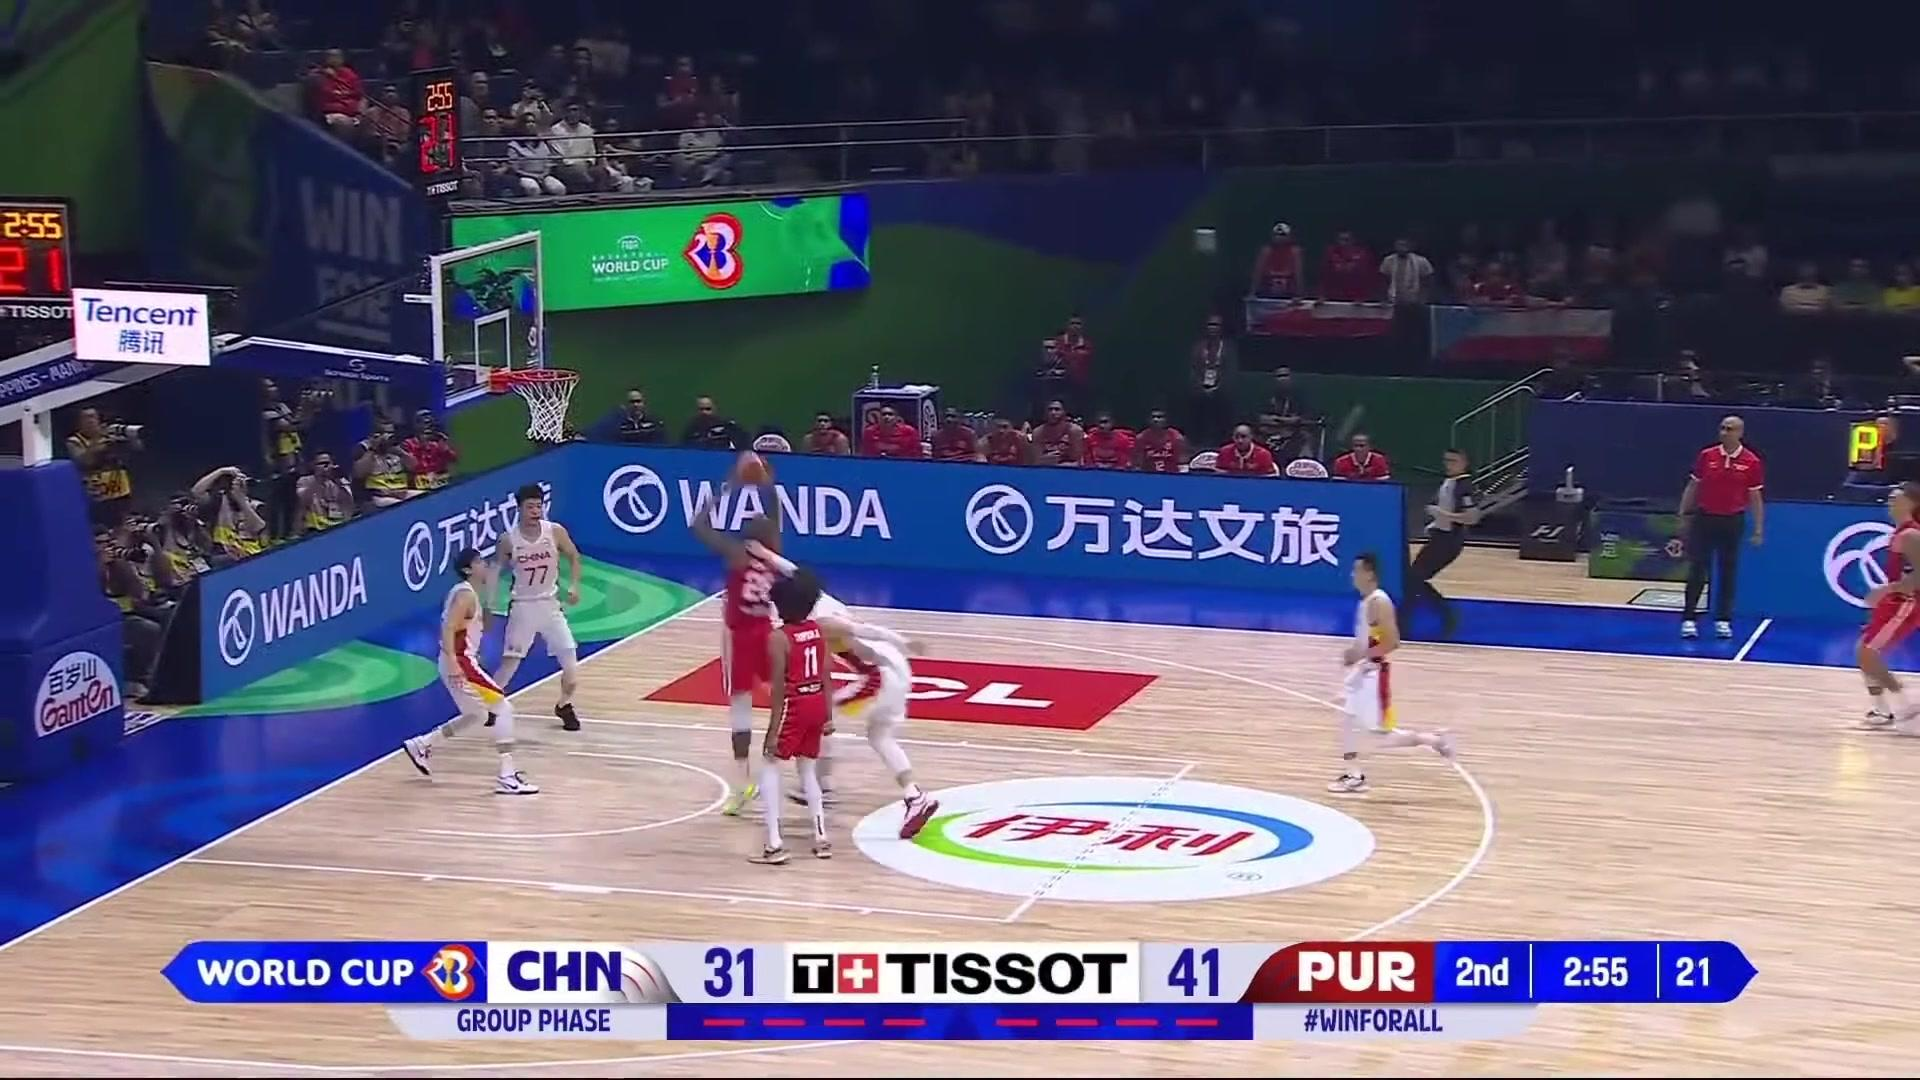foul: (658, 504, 939, 825)
